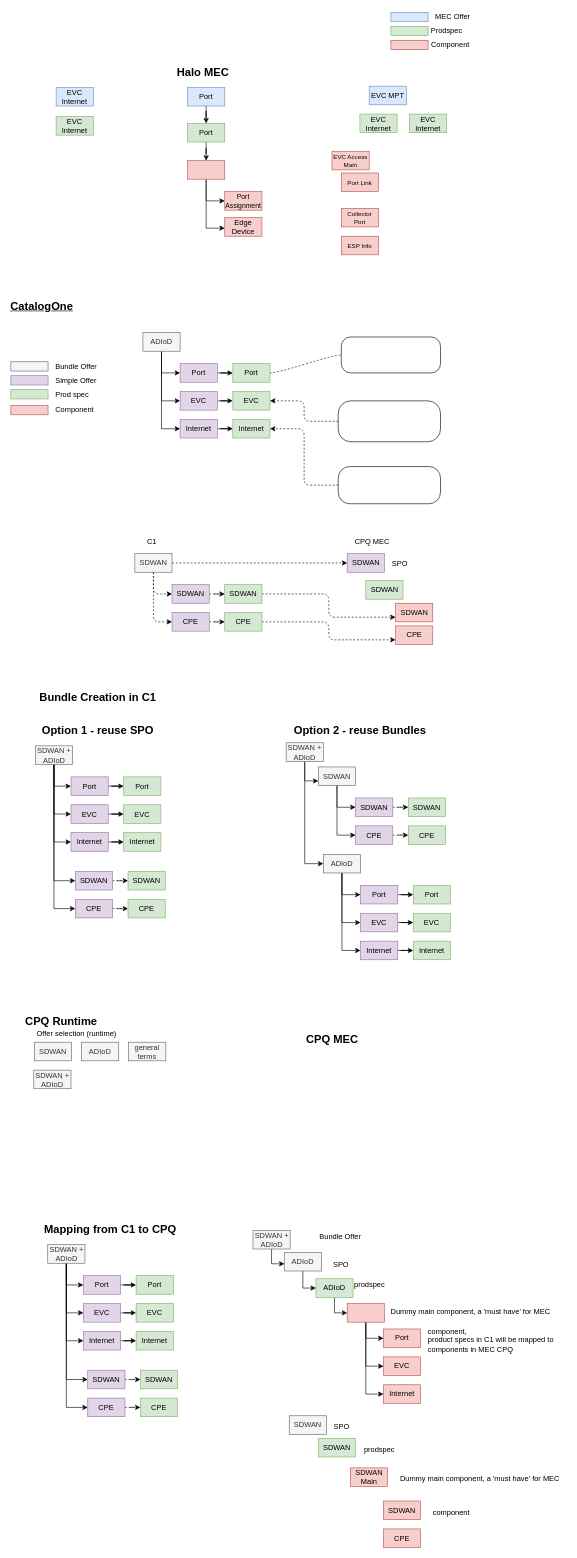
Some shapes in this 577 by 1558 pixel diagram are drawn without their labels. The shapes that lost their labels are listed below. From the top down, each one's box as (x1, y1, x2, y2) in pixels, then its label:
(187, 160, 225, 179): Port Main
(341, 336, 441, 373): All relevant attributes from MEC 'Port' will map into this single prod spec
(338, 400, 441, 442): All relevant attributes from both 'EVC access' and 'EVC' will map here
(338, 466, 441, 504): All relevant attributes from both 'EVC Internet' will map here
(347, 1303, 384, 1322): ADIoD Main
